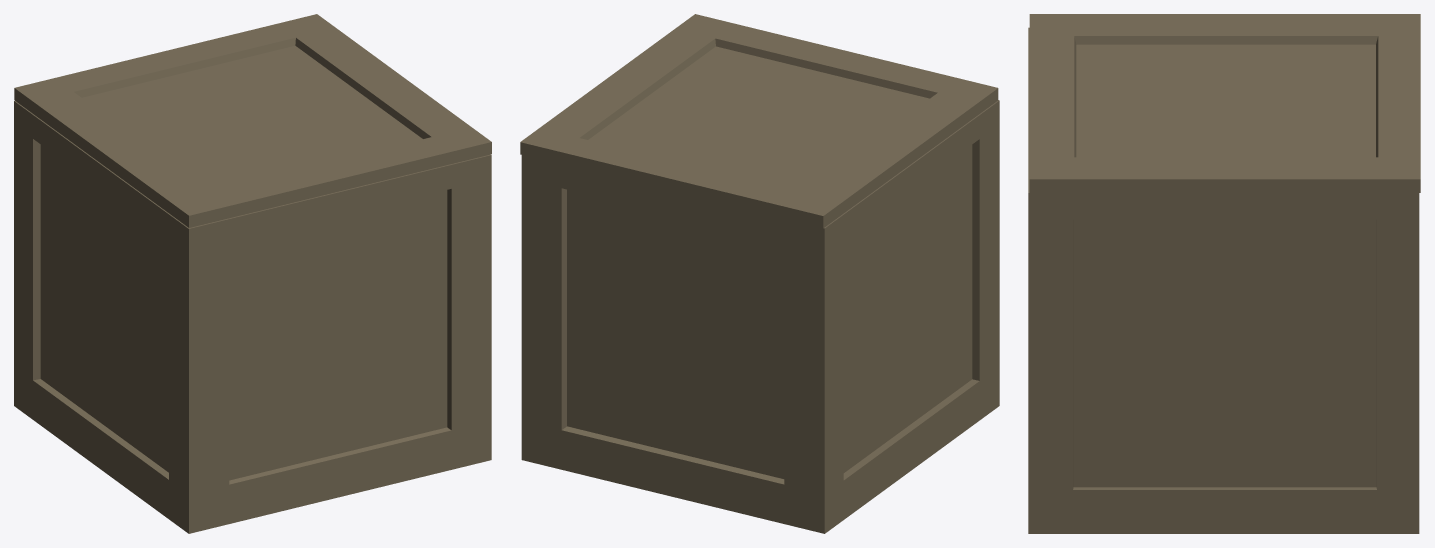
Rendered from Crate_Wood_Small.fbx.
3 renders of one model, left to right at view 1: azimuth 30°, elevation 25°; view 2: azimuth 150°, elevation 25°; view 3: azimuth 270°, elevation 25°, orthographic. The views are drawn at different scales.
Parts seen in each view (by area): view 1: Crate, Lid; view 2: Crate, Lid; view 3: Crate, Lid.
Boxes of the visible parts, bbox=[...] form: Crate: bbox=[14, 101, 491, 533]; Lid: bbox=[14, 14, 491, 227]; Crate: bbox=[521, 100, 999, 533]; Lid: bbox=[520, 14, 998, 228]; Crate: bbox=[1028, 27, 1419, 533]; Lid: bbox=[1029, 14, 1420, 192].
Size of the model in its own units: 0.4949 by 0.4947 by 0.4951.
